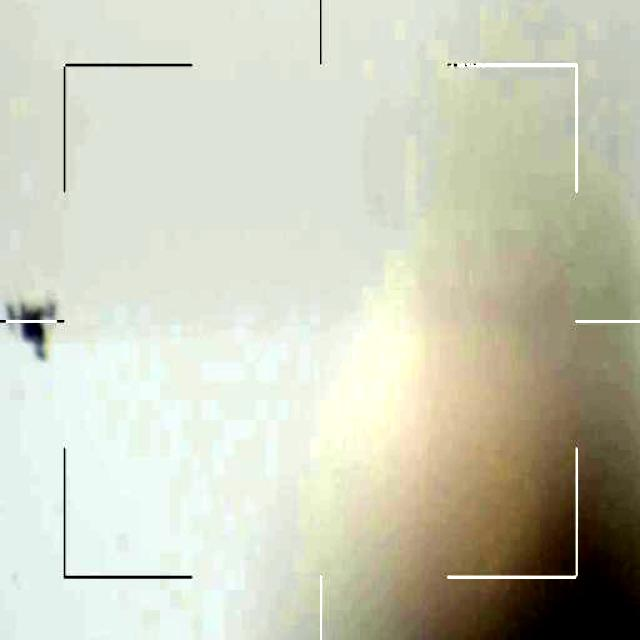bird: (11, 289, 71, 356)
